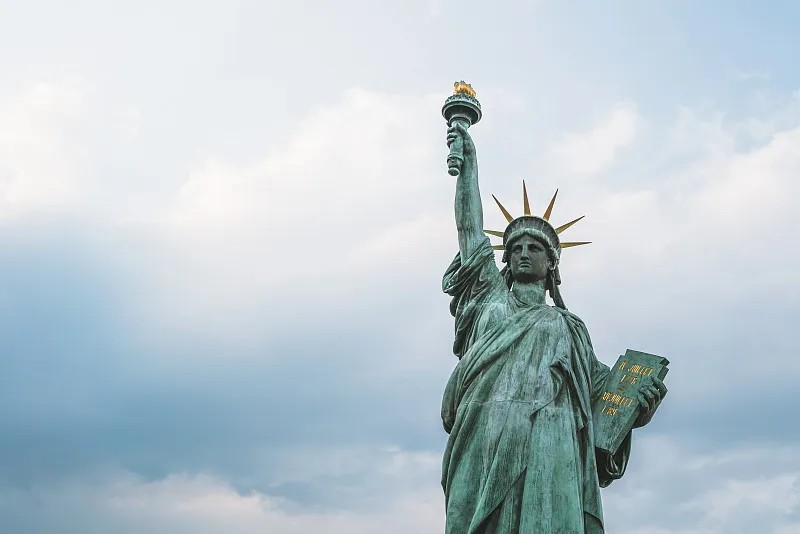SL: (440, 80, 671, 534)
